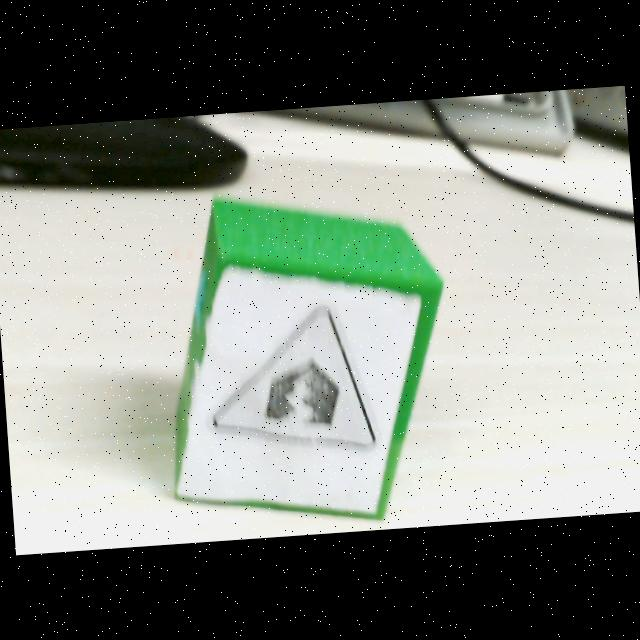Earthquake: (208, 305, 377, 448)
